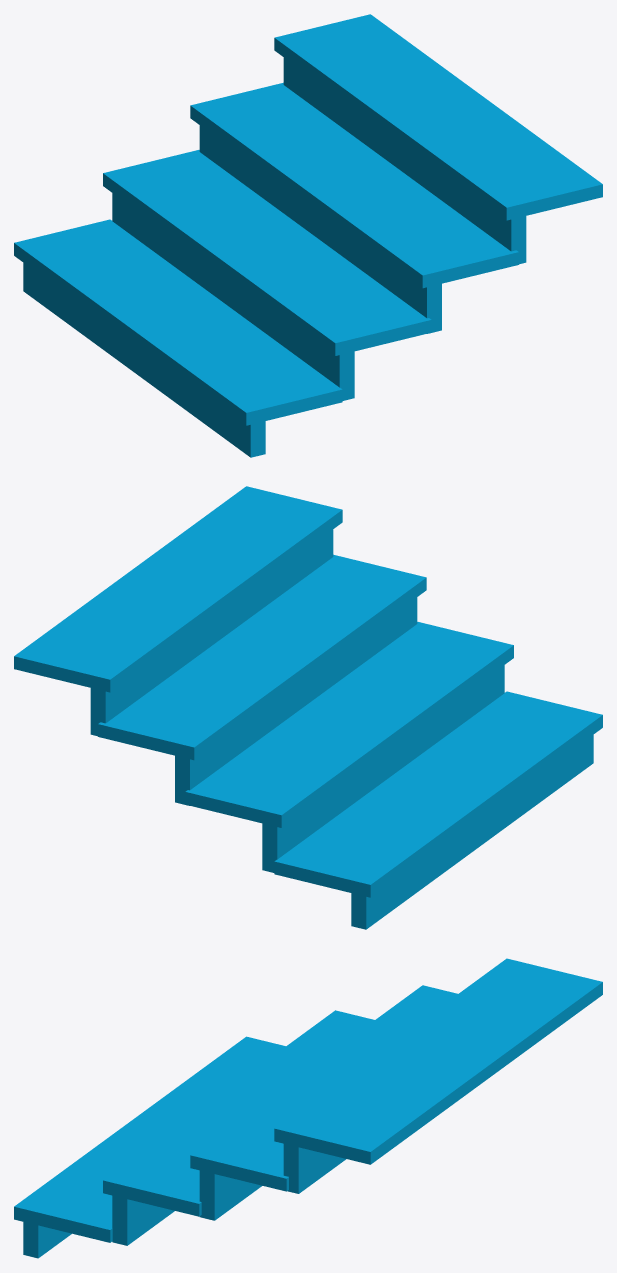
File: HT_Stairs_01.fbx
3 views of the same model, one above another, from view 1: azimuth 30°, elevation 25°; view 2: azimuth 150°, elevation 25°; view 3: azimuth 330°, elevation 25° (orthographic).
Visible parts, largest first — view 1: HT_Stairs_01; view 2: HT_Stairs_01; view 3: HT_Stairs_01.
Part boxes in pixels (x1,y1,x2,y2): HT_Stairs_01: (14,14,602,457); HT_Stairs_01: (14,486,602,929); HT_Stairs_01: (14,958,602,1258).
Bounding box in the file's own units: 132 × 67.05 × 149.
